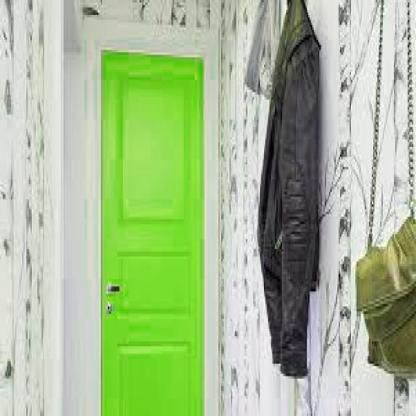door: (90, 20, 223, 414)
